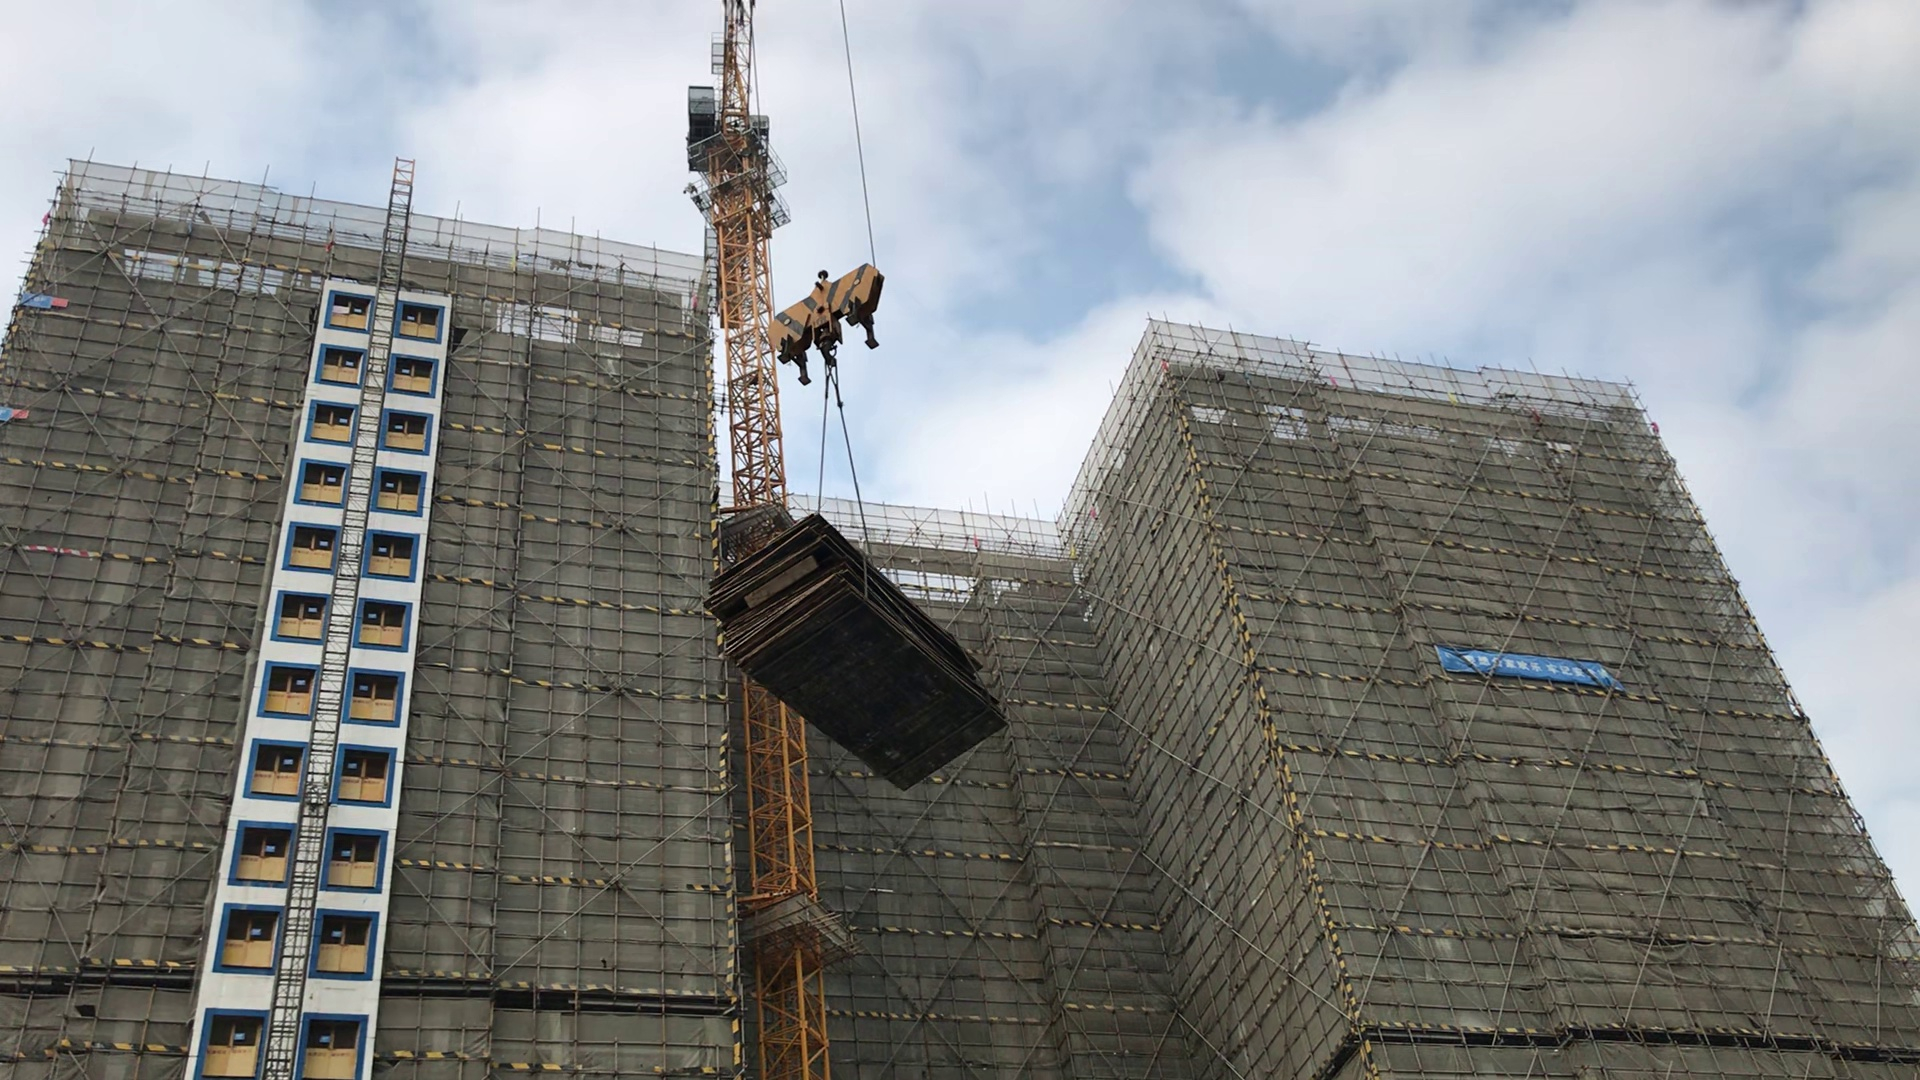board: (707, 510, 1013, 791)
hook: (764, 262, 887, 386)
slogan: (1432, 637, 1621, 690)
